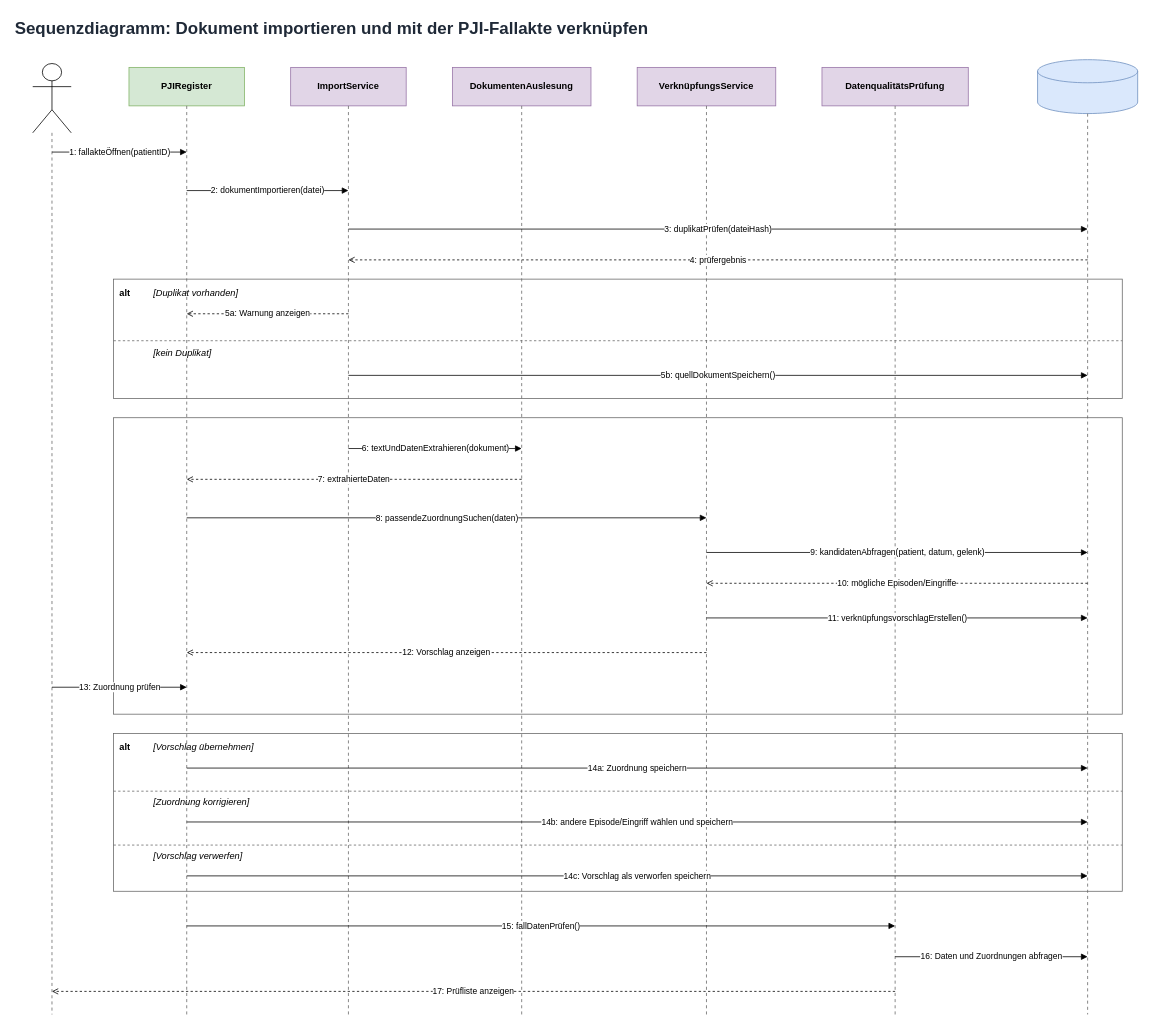
This 1151x1029 diagram has some shape labels left out. The centre of each missing label's shape, as x and y in pixels:
Bearbeiter: point 51,98
Datenbank: point 1087,86
loop [für jedes neue Dokument]: point 617,565
